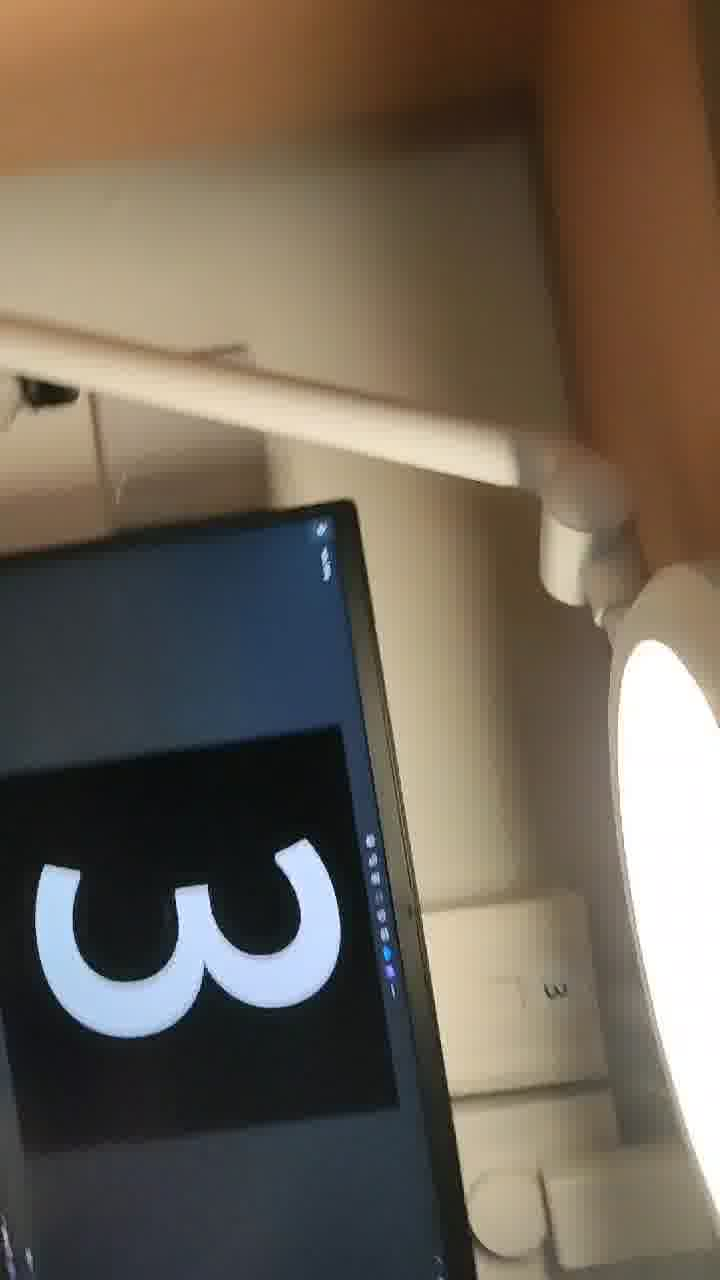three: (23, 791, 391, 1115)
